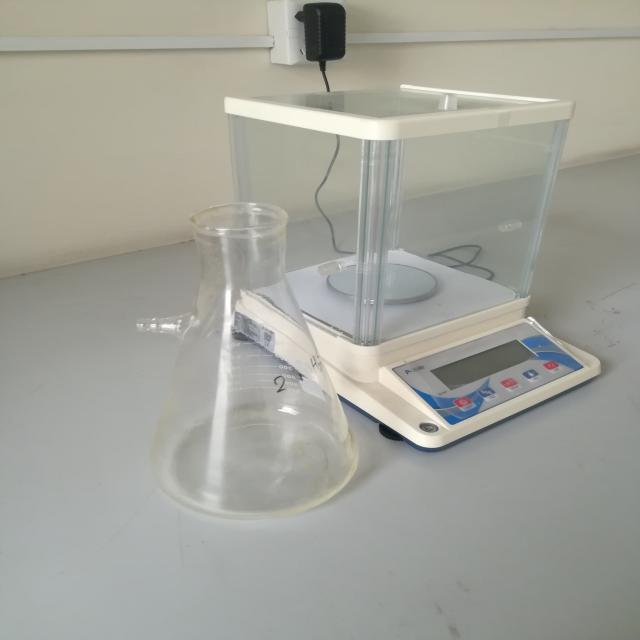Conical_Flask: (93, 183, 416, 555)
